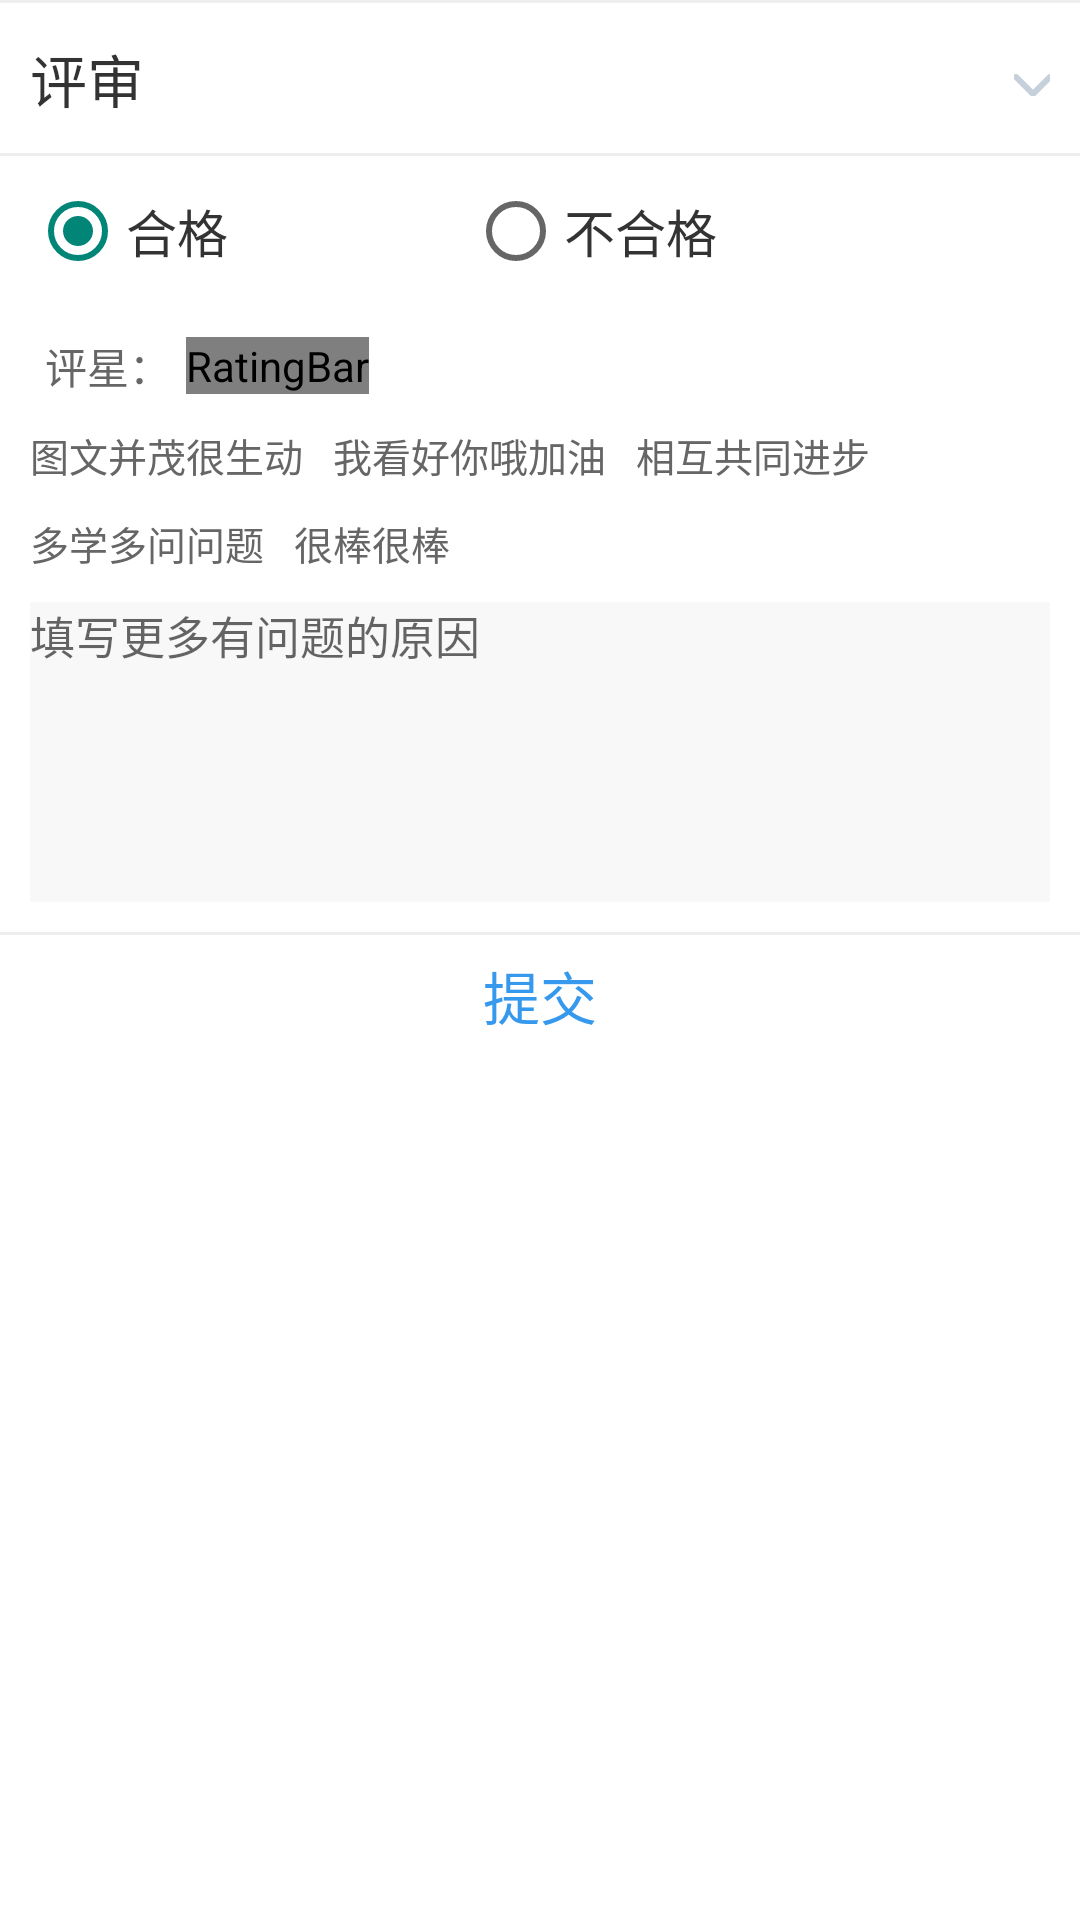

Icon click points for this 1080×1920 phone screenshot, format [x,y]:
allow bottom: [1032,85]
